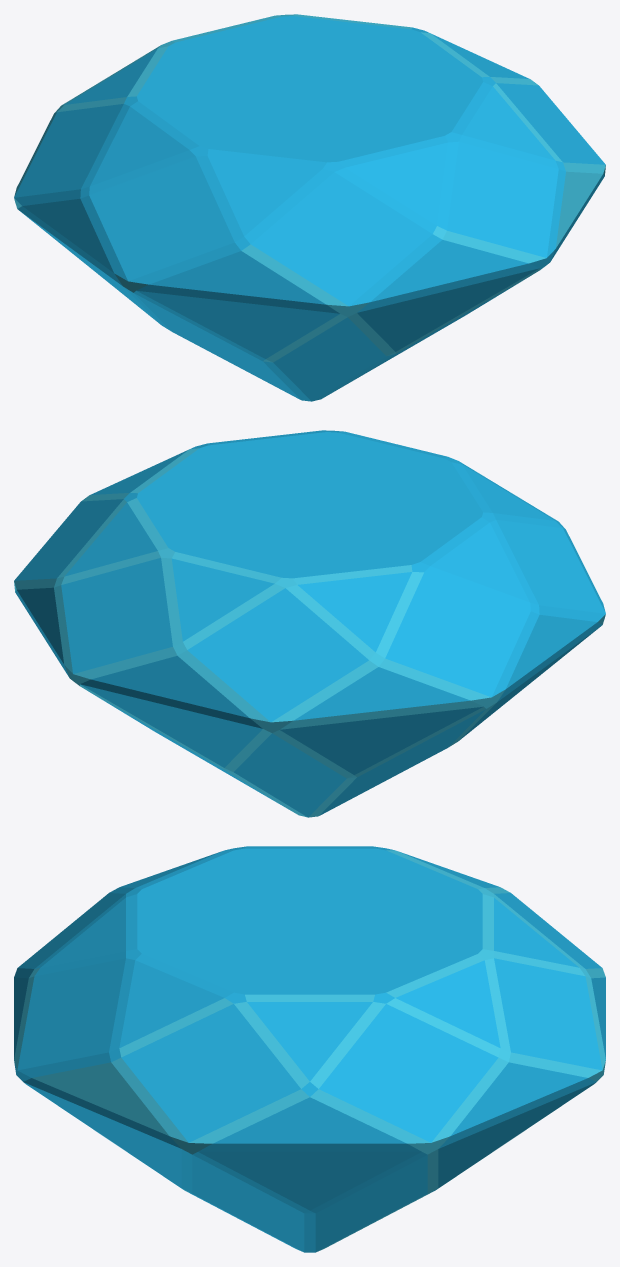
File: gem.glb
The picture shows the model from 3 angles, top to bottom: view 1: azimuth 30°, elevation 25°; view 2: azimuth 150°, elevation 25°; view 3: azimuth 270°, elevation 25°; orthographic projection. The views are drawn at different scales.
Visible parts, largest first — view 1: Gem; view 2: Gem; view 3: Gem.
Boxes of the visible parts, left/top/right/bottom form: Gem: left=14, top=14, right=605, bottom=401; Gem: left=14, top=430, right=605, bottom=817; Gem: left=14, top=846, right=605, bottom=1252.
Size of the model in its own units: 1.84 by 1.11 by 1.84.
